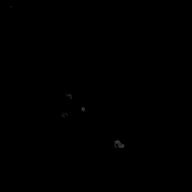v: (57, 90, 84, 117)
